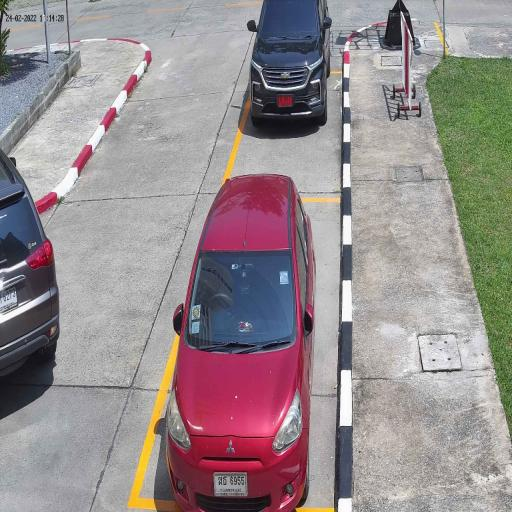car: (166, 174, 315, 511), (0, 146, 60, 388), (249, 0, 331, 124)
